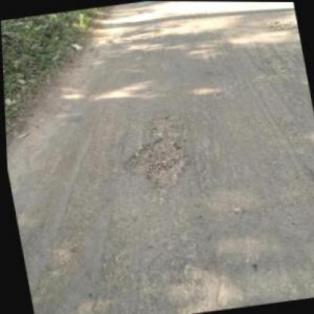Hueco: (114, 113, 195, 196), (254, 10, 298, 38)
